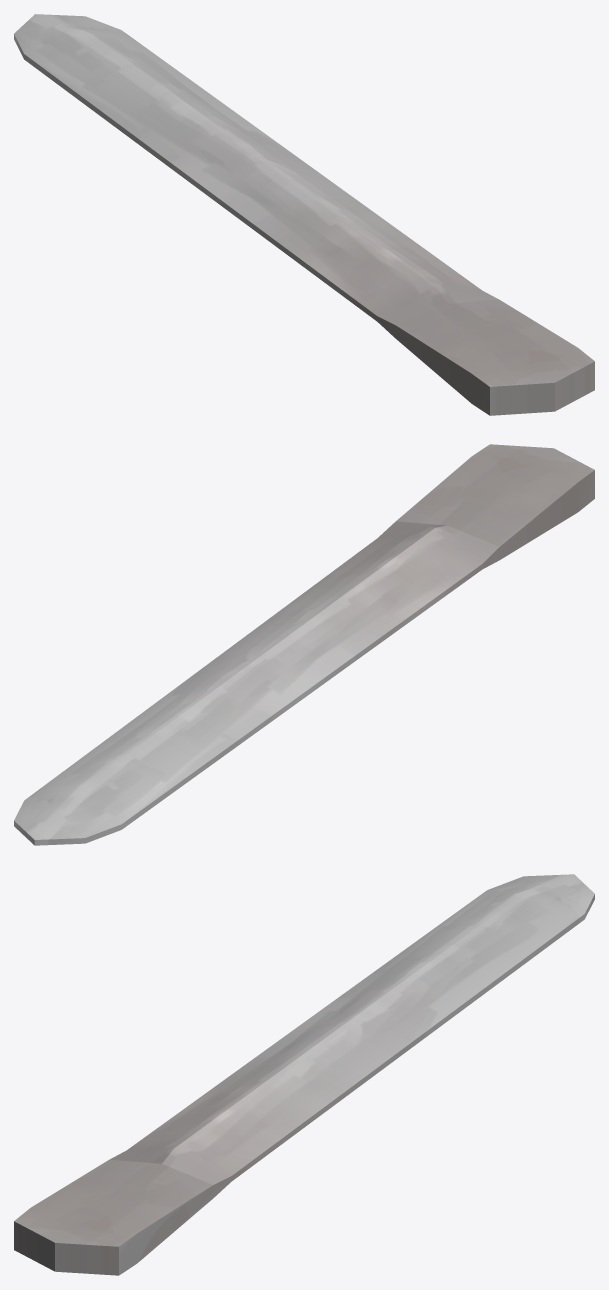
Rendered from blade5.FBX.
The picture shows the model from 3 angles, top to bottom: view 1: azimuth 30°, elevation 25°; view 2: azimuth 150°, elevation 25°; view 3: azimuth 330°, elevation 25°; orthographic projection.
Parts seen in each view (by area): view 1: blade005; view 2: blade005; view 3: blade005.
Boxes of the visible parts, box(x1,y1,x2,y2) form: blade005: box(14, 14, 594, 415); blade005: box(14, 444, 594, 845); blade005: box(14, 874, 594, 1275).
Size of the model in its own units: 0.1233 by 1.04 by 0.0481.
